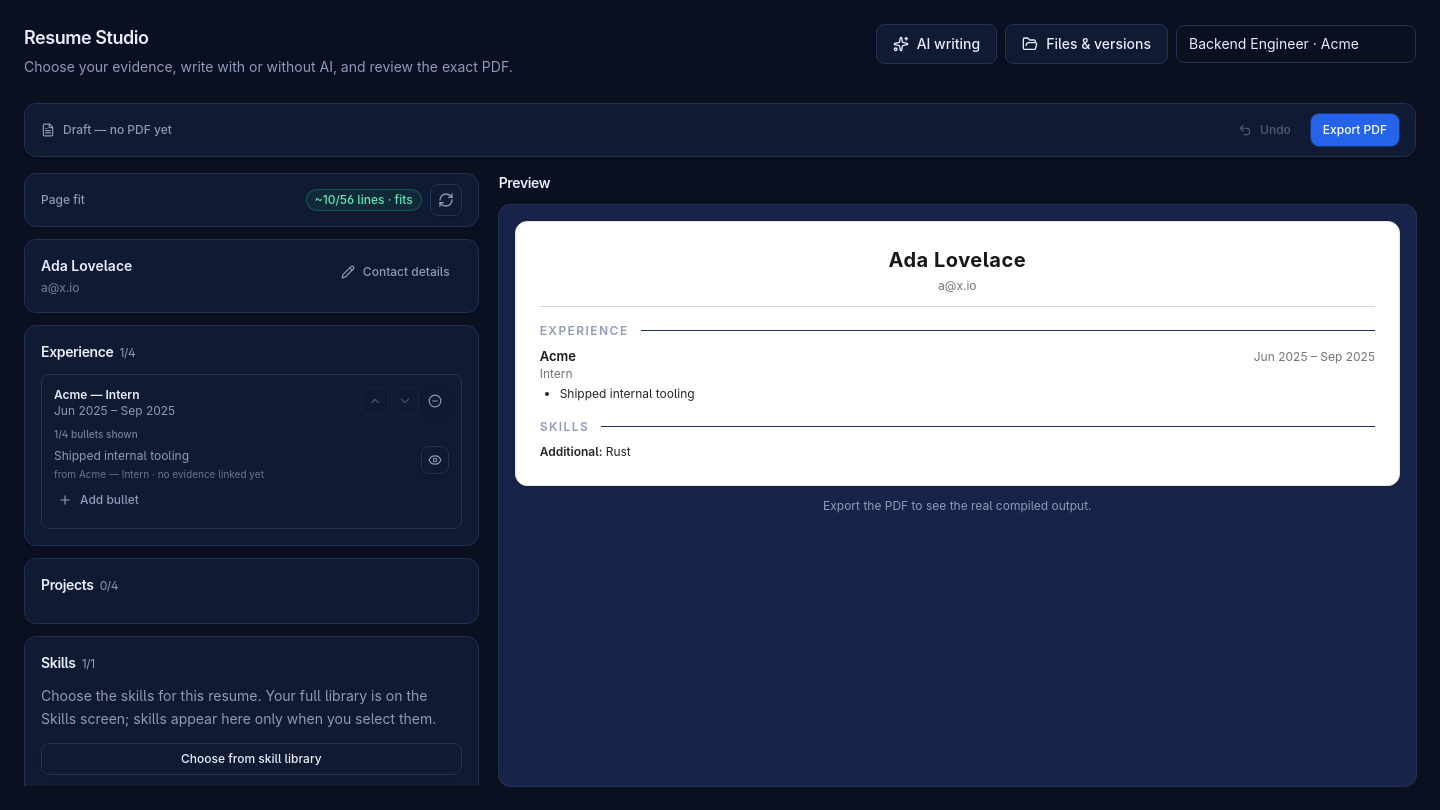
Test: journey · exporting a PDF › Draft → Current PDF with a real page count, and the final review gates version 1
Expected: the message "Draft — no PDF yet Undo Export PDF" is shown, [24,103,1416,157]
Expected: the message with test id "studio-status" shows "Draft", [63,122,172,137]
Click the button "Export PDF" at coordinates (1355, 130), box [1311,114,1399,146]
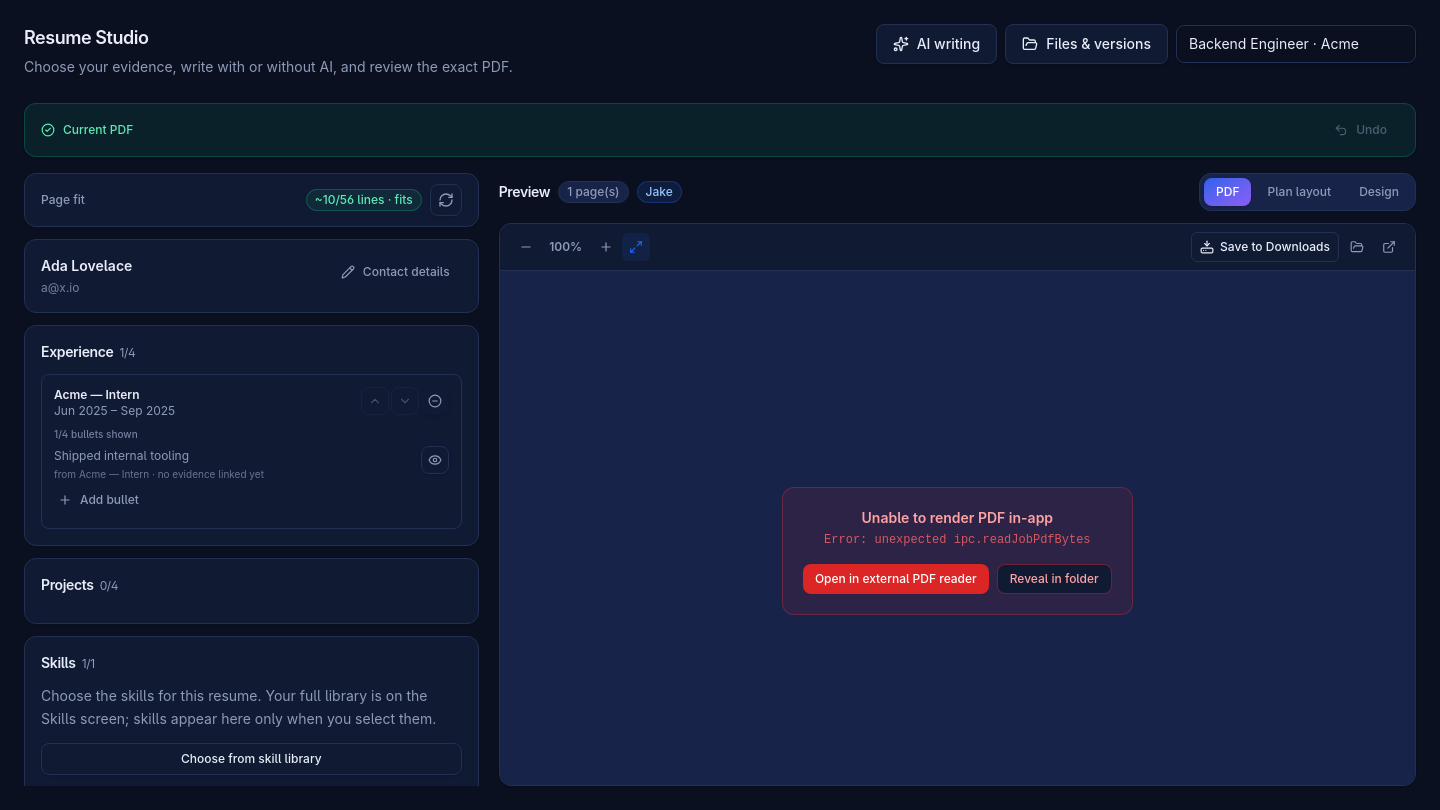
Result: the message with test id "studio-status" shows "Current PDF" at [63,122,133,137]
Result: the text "1 page(s)" is shown at [558,181,628,203]
# Version 1 is locked behind the final review.
Click the button "Files & versions" at coordinates (1087, 44), box [1005,24,1168,64]
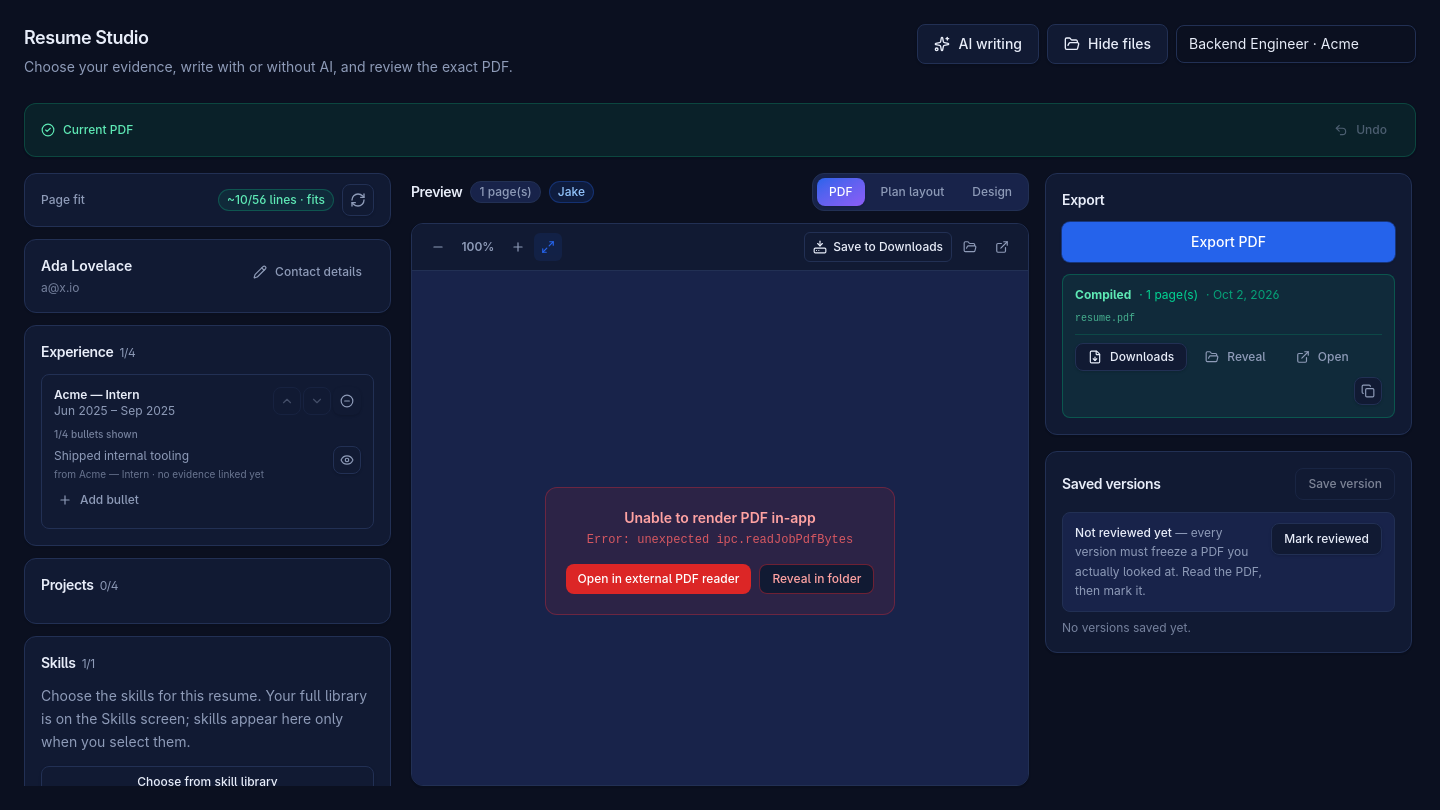
Result: the button "Save version" is disabled at [1295,468,1395,500]
# The backend review gate: mark THIS pdf reviewed, then version 1 unlocks.
Click the button "Mark reviewed" at coordinates (1327, 539), box [1271,523,1382,555]
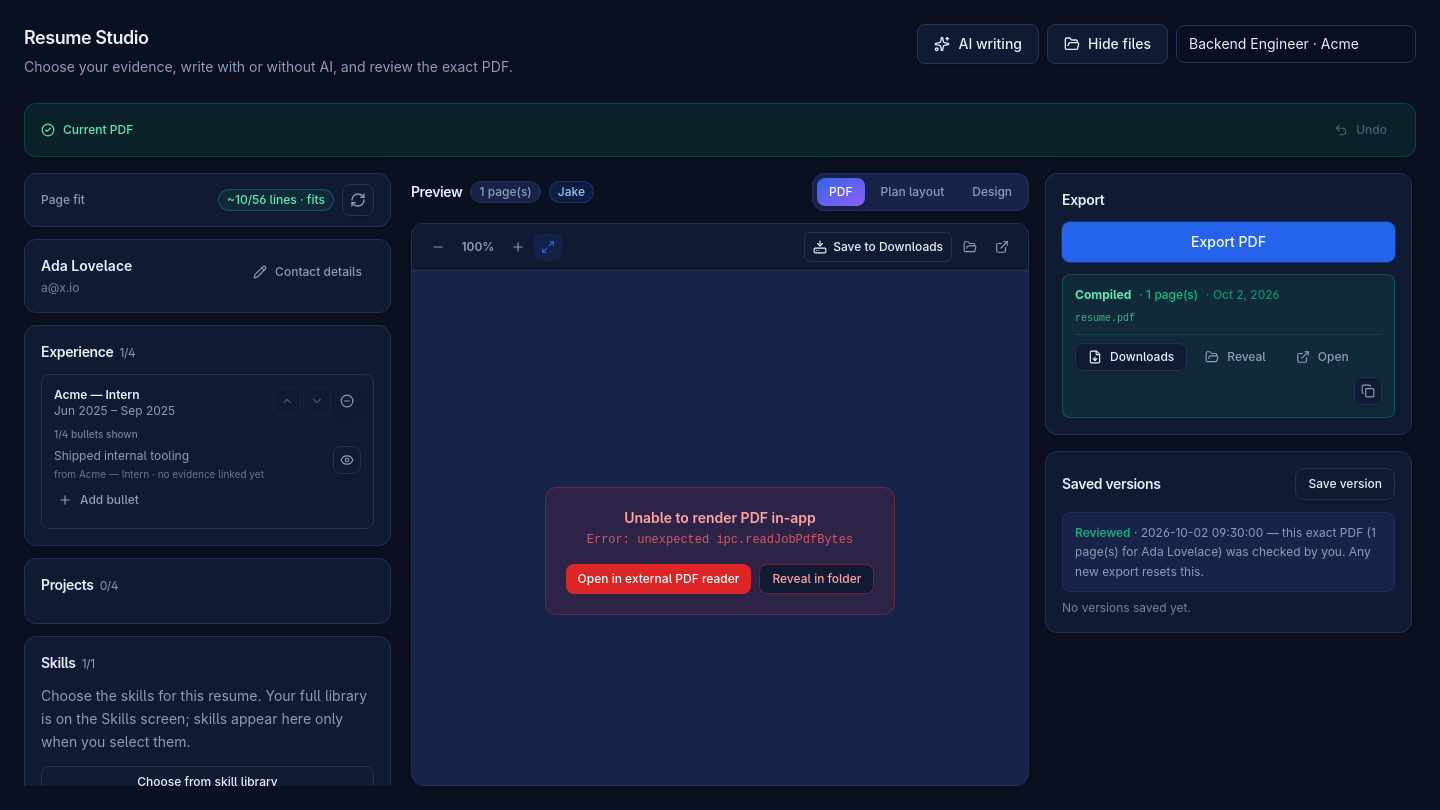
Result: the button "Save version" is enabled at [1295,468,1395,500]
